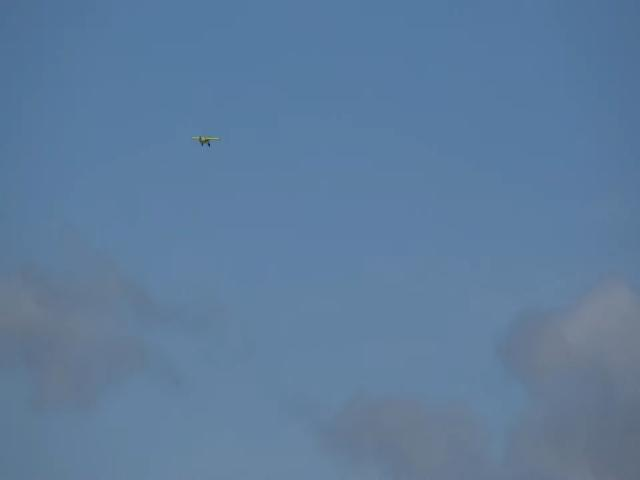plane: (192, 134, 218, 146)
